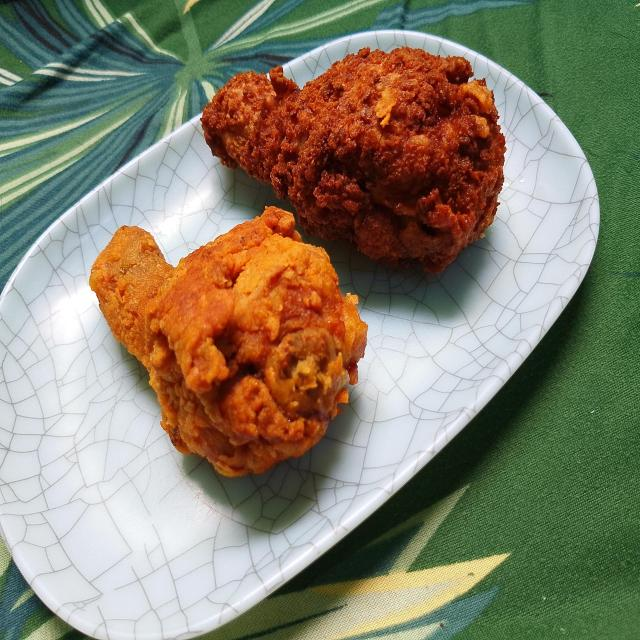Chicken -Fried Chicken-: (87, 194, 378, 499), (192, 30, 516, 302)
